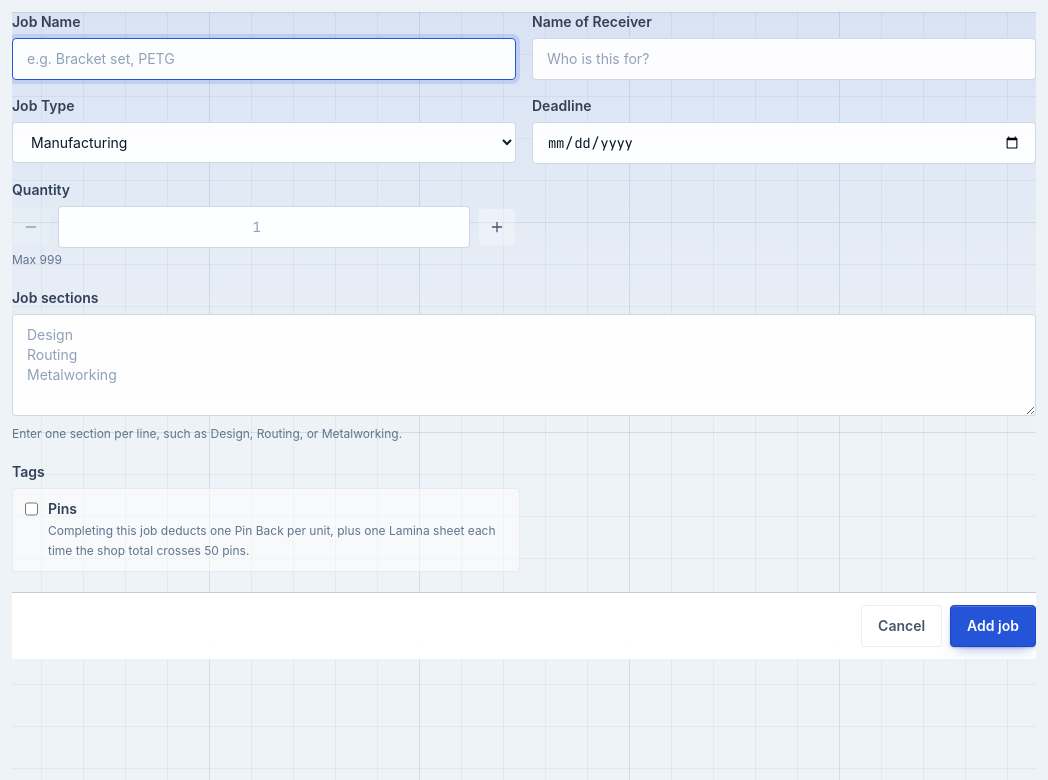
it: job sections in the job form › appears for every job type, relabelled for repairs
Expected: the text box labelled "Job sections" is shown, x1=12 y1=314 x2=1036 y2=416
Expected: the text "Enter one section per line, such as Design, Routing, or Metalworking" is shown, x1=12 y1=426 x2=402 y2=441
Select "Repair" in the dropdown labelled "Job Type" at (264, 142), box x1=12 y1=122 x2=516 y2=163
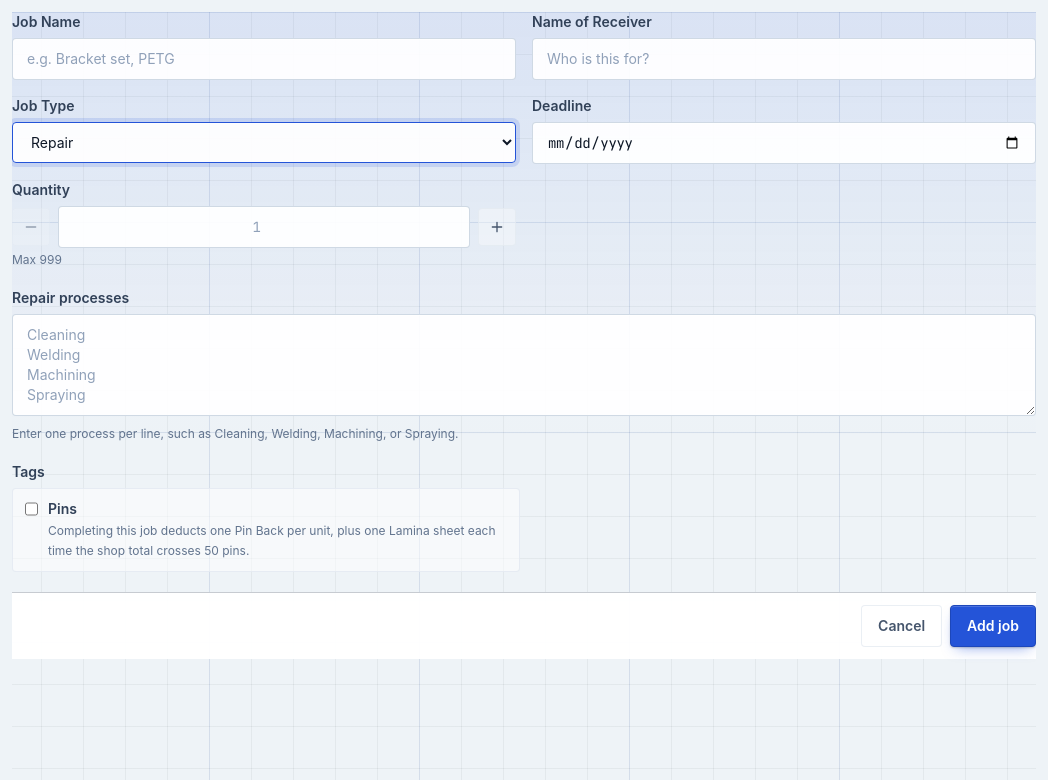
Expected: the text box labelled "Repair processes" is shown, x1=12 y1=314 x2=1036 y2=416
Expected: the text "Enter one process per line, such as Cleaning, Welding, Machining, or Spraying" is shown, x1=12 y1=426 x2=458 y2=441
